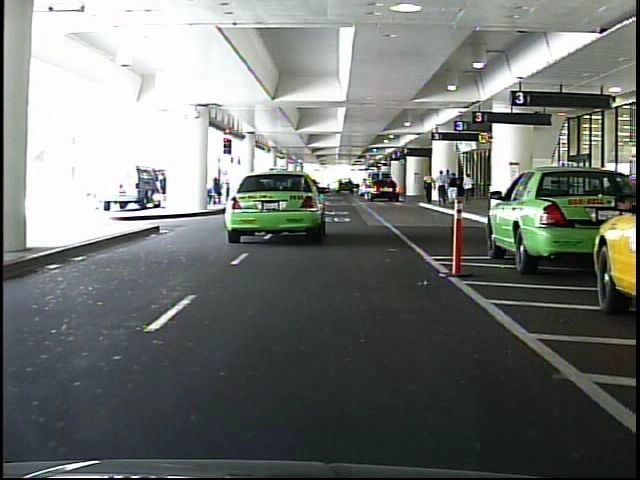person: (461, 170, 479, 210), (421, 168, 437, 209), (437, 166, 450, 209), (447, 172, 460, 212)
